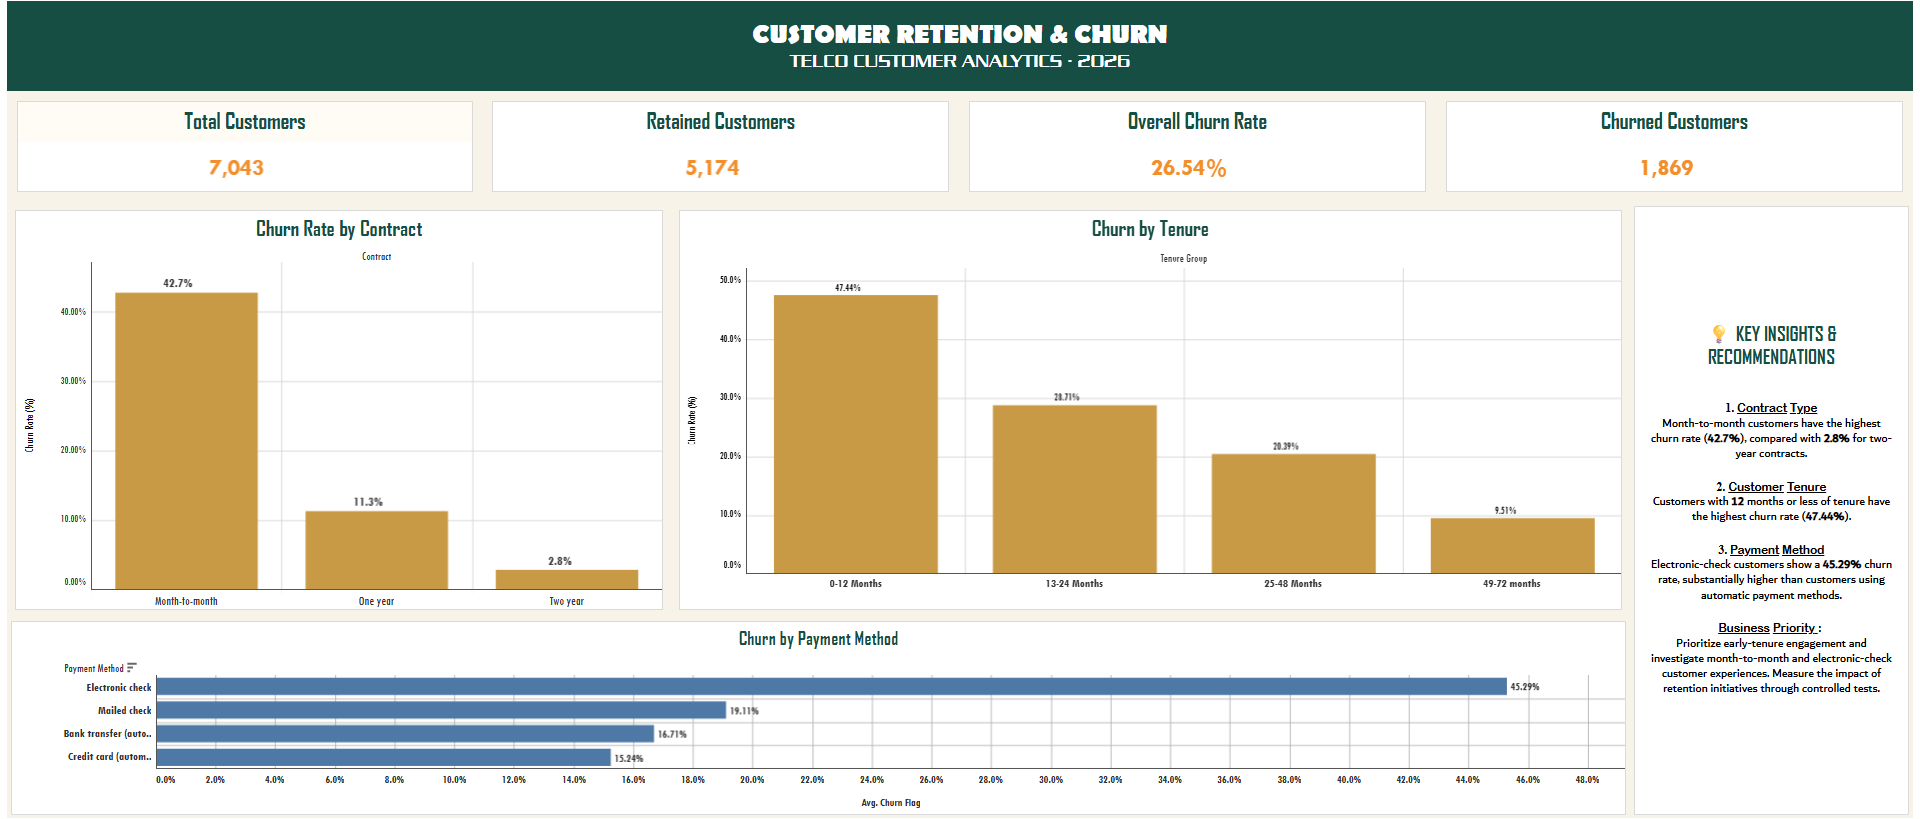

Layout of this report page (visuals, bound fields, positions):
{"tool":"tableau","page":{"name":"Dashboard 1","canvas":[650,860],"ordinal":0},"visuals":[{"type":"text","box":[8,8,634,83.5]},{"type":"worksheet","title":"Total Customers","mark":"Automatic","box":[8,91.5,317,83.5]},{"type":"worksheet","title":"Churned Customers","mark":"Automatic","box":[325,91.5,317,83.5]},{"type":"worksheet","title":"Retained Customers","mark":"Automatic","box":[8,175,317,164]},{"type":"worksheet","title":"Overall Churn Rate","mark":"Automatic","box":[325,175,317,164]},{"type":"worksheet","title":"Churn Rate by Contact","mark":"Bar","rows":["Calculation_1516834426388482"],"cols":["Contract"],"box":[8,339,302,302]},{"type":"worksheet","title":"Churn by Tenure","mark":"Bar","rows":["Calculation_1516834426388482"],"cols":["Calculation_1516834457948165"],"box":[310,339,332,302]},{"type":"worksheet","title":"Churn by Payment Method","mark":"Automatic","rows":["PaymentMethod"],"cols":["Calculation_1516834426388482"],"box":[8,641,634,211]}]}

Visuals, with their boxes on the page's 650x860 design canvas (x1, y1, x2, y2). These are canvas units, not pixel positions in the 1920x819 screenshot, which may show the page scaled, cropped or inside an application window:
text: 8 8 642 92
"Total Customers" worksheet: 8 92 325 175
"Churned Customers" worksheet: 325 92 642 175
"Retained Customers" worksheet: 8 175 325 339
"Overall Churn Rate" worksheet: 325 175 642 339
"Churn Rate by Contact" worksheet (Bar marks): 8 339 310 641
"Churn by Tenure" worksheet (Bar marks): 310 339 642 641
"Churn by Payment Method" worksheet: 8 641 642 852
